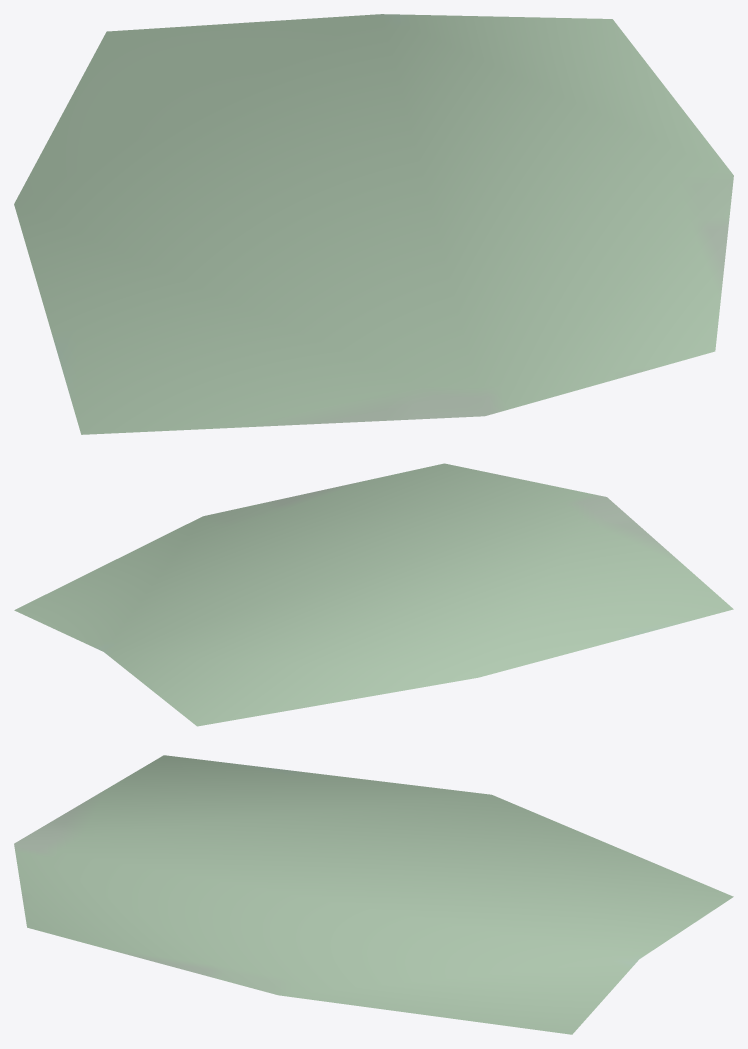
File: TROLLHOLE02_HOLECAP145.fbx
3 renders of one model, top to bottom at view 1: azimuth 30°, elevation 25°; view 2: azimuth 150°, elevation 25°; view 3: azimuth 270°, elevation 25°, orthographic. The views are drawn at different scales.
Parts seen in each view (by area): view 1: TROLLHOLE02_HOLECAP145; view 2: TROLLHOLE02_HOLECAP145; view 3: TROLLHOLE02_HOLECAP145.
Boxes of the visible parts, box(x1,y1,x2,y2) form: TROLLHOLE02_HOLECAP145: box(14, 14, 733, 434); TROLLHOLE02_HOLECAP145: box(14, 463, 733, 726); TROLLHOLE02_HOLECAP145: box(14, 755, 733, 1034).
Bounding box in the file's own units: 34514 × 955 × 36803.
Materials: 1 (1 with a texture image).
